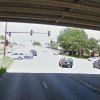Traffic light: (24, 26, 53, 39)
